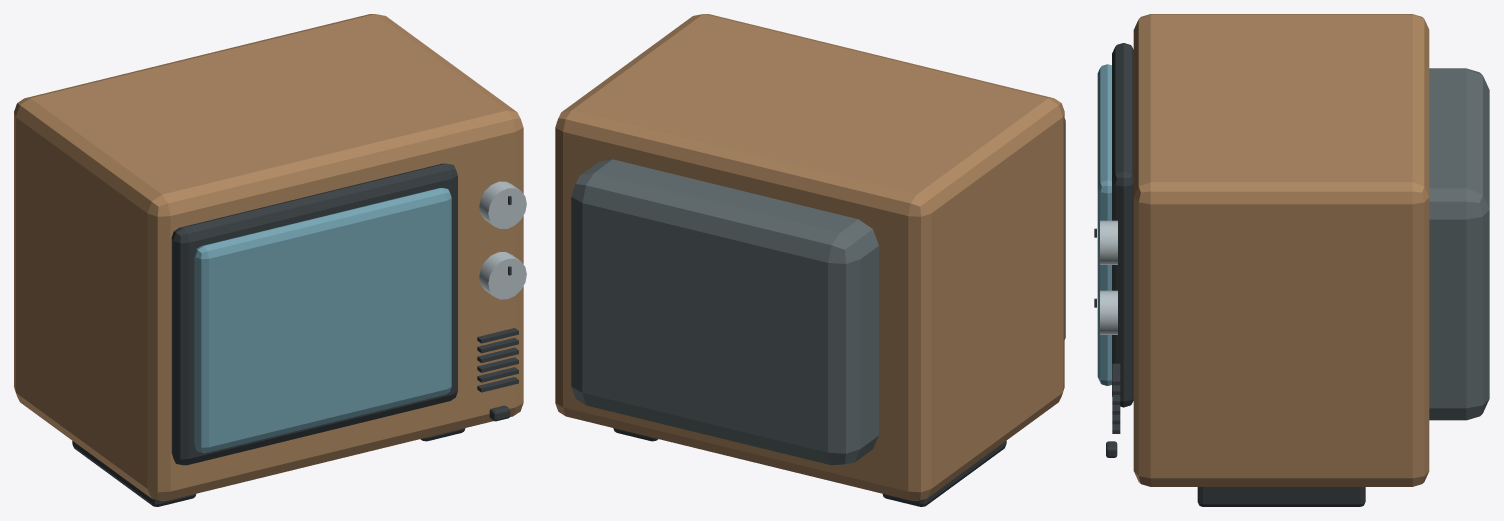
File: tv_crt.glb
3 renders of one model, left to right at view 1: azimuth 30°, elevation 25°; view 2: azimuth 150°, elevation 25°; view 3: azimuth 270°, elevation 25°, orthographic.
Visible parts, largest first — view 1: CRT_TV_Box_Cabinet, CRT_TV_Rounded_Screen, CRT_TV_Front_Bezel, CRT_TV_Tuning_Dial_0, CRT_TV_Tuning_Dial_1, CRT_TV_Foot_-0.23; view 2: CRT_TV_Box_Cabinet, CRT_TV_Rear_Housing, CRT_TV_Foot_-0.23; view 3: CRT_TV_Box_Cabinet, CRT_TV_Rear_Housing, CRT_TV_Front_Bezel, CRT_TV_Rounded_Screen, CRT_TV_Foot_0.23, CRT_TV_Tuning_Dial_0, CRT_TV_Tuning_Dial_1.
Boxes of the visible parts, <box> form: CRT_TV_Box_Cabinet: <box>14,14,523,500</box>; CRT_TV_Rounded_Screen: <box>194,188,451,452</box>; CRT_TV_Front_Bezel: <box>171,163,457,465</box>; CRT_TV_Tuning_Dial_0: <box>479,181,526,228</box>; CRT_TV_Tuning_Dial_1: <box>479,252,526,299</box>; CRT_TV_Foot_-0.23: <box>72,441,196,506</box>; CRT_TV_Box_Cabinet: <box>555,14,1064,500</box>; CRT_TV_Rear_Housing: <box>571,159,878,465</box>; CRT_TV_Foot_-0.23: <box>882,441,1006,506</box>; CRT_TV_Box_Cabinet: <box>1133,14,1429,486</box>; CRT_TV_Rear_Housing: <box>1429,68,1489,420</box>; CRT_TV_Front_Bezel: <box>1112,43,1133,407</box>; CRT_TV_Rounded_Screen: <box>1097,64,1111,385</box>; CRT_TV_Foot_0.23: <box>1197,487,1365,506</box>; CRT_TV_Tuning_Dial_0: <box>1100,220,1117,264</box>; CRT_TV_Tuning_Dial_1: <box>1100,290,1117,334</box>.
Bounding box in the file's own units: 0.64 × 0.55 × 0.589.
